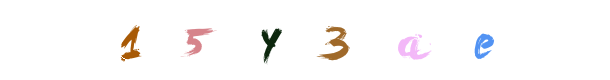1: (179, 0, 259, 80)
3: (265, 0, 345, 80)
5: (205, 0, 285, 80)
A: (323, 0, 403, 80)
E: (443, 0, 523, 80)
Y: (230, 0, 310, 80)
